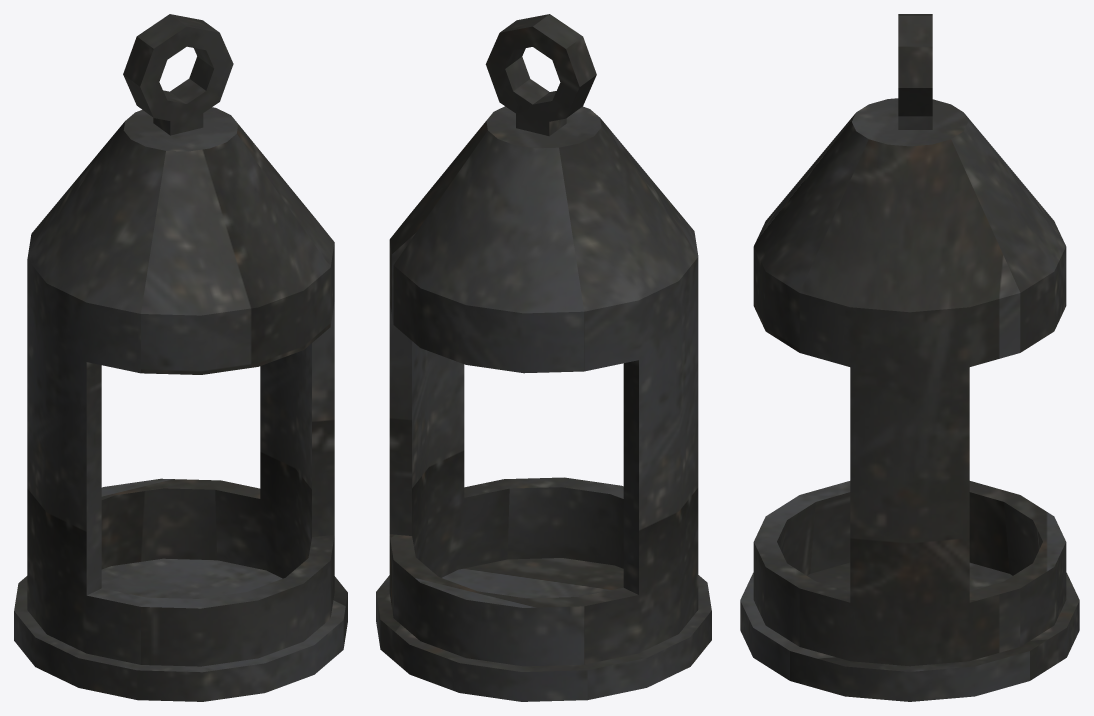
File: LP_Lantern.glb
3 views of the same model, side by side, from view 1: azimuth 30°, elevation 25°; view 2: azimuth 150°, elevation 25°; view 3: azimuth 270°, elevation 25° (orthographic).
Parts seen in each view (by area): view 1: Lantern; view 2: Lantern; view 3: Lantern.
Boxes of the visible parts, bbox=[...] form: Lantern: bbox=[14, 14, 347, 701]; Lantern: bbox=[376, 14, 711, 701]; Lantern: bbox=[740, 14, 1079, 701].
Size of the model in its own units: 0.4347 by 0.868 by 0.4347.
1 material, 1 textured.
